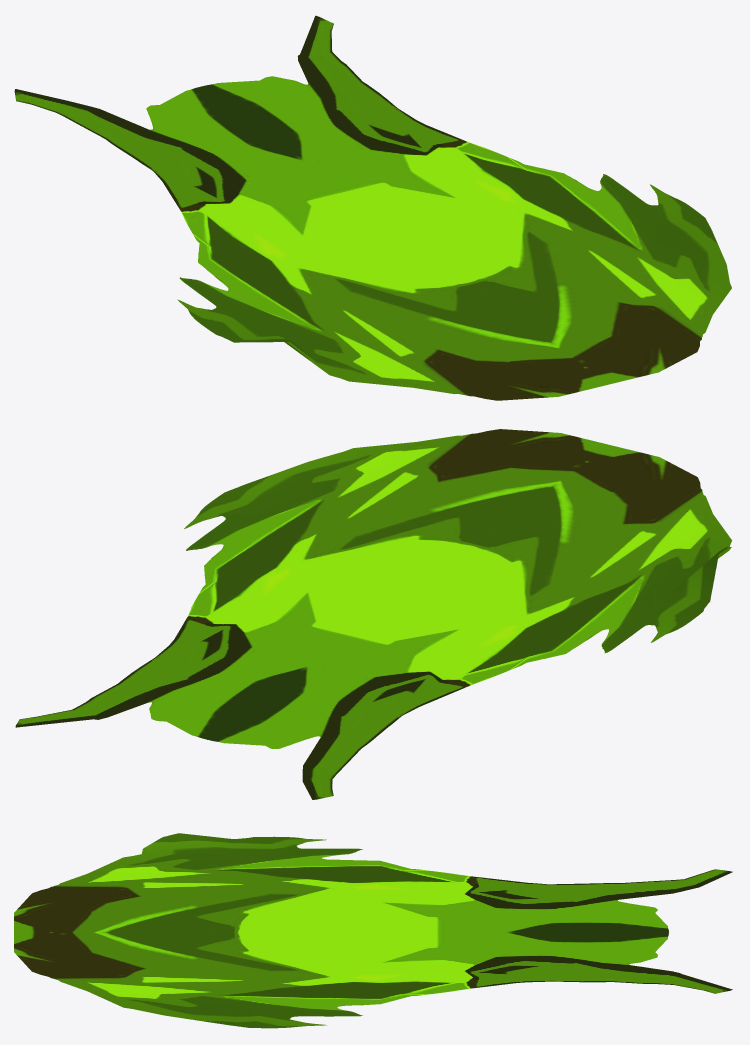
The model's file is body green plane.fbx.
The picture shows the model from 3 angles, top to bottom: view 1: azimuth 30°, elevation 25°; view 2: azimuth 150°, elevation 25°; view 3: azimuth 270°, elevation 25°; orthographic projection. The views are drawn at different scales.
Visible parts, largest first — view 1: pPlane1; view 2: pPlane1; view 3: pPlane1.
Part boxes in pixels (box(x1,y1,x2,y2)): pPlane1: box(14, 15, 731, 400); pPlane1: box(15, 429, 731, 799); pPlane1: box(14, 833, 732, 1028).
Size of the model in its own units: 14.9 by 0.6657 by 23.12.
